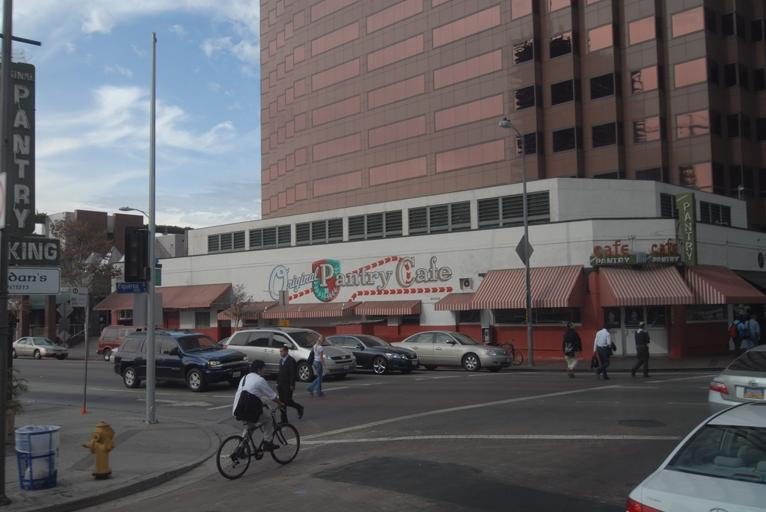non-vehicle: (216, 402, 302, 479), (497, 339, 524, 366)
